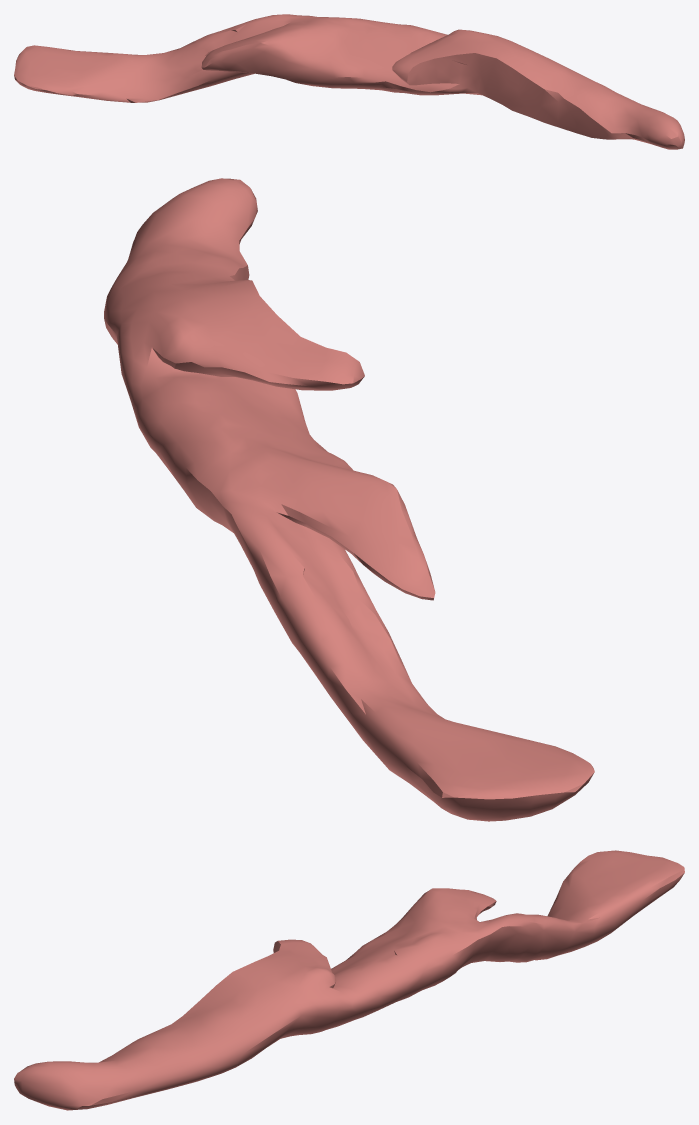
The model's file is fma46020_mm1731m.glb.
The picture shows the model from 3 angles, top to bottom: view 1: azimuth 30°, elevation 25°; view 2: azimuth 150°, elevation 25°; view 3: azimuth 270°, elevation 25°; orthographic projection. The views are drawn at different scales.
Parts seen in each view (by area): view 1: FMA46020_MM1731M; view 2: FMA46020_MM1731M; view 3: FMA46020_MM1731M.
Part boxes in pixels (<box>): FMA46020_MM1731M: <box>14,14,684,149</box>; FMA46020_MM1731M: <box>104,178,594,821</box>; FMA46020_MM1731M: <box>14,850,684,1110</box>.
Bounding box in the file's own units: 0.0443 × 0.00837 × 0.0475.
